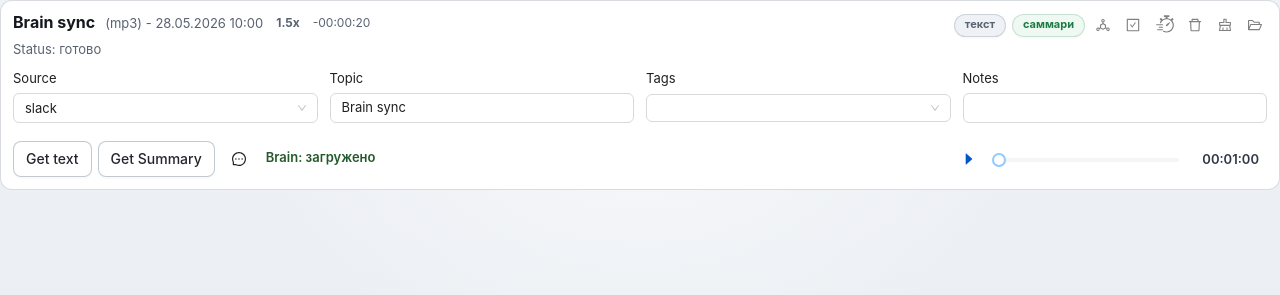
Scenario: SessionCard speed dropdown › does not mark 1x as available when speed availability metadata is missing
This screenshot has width=1280, height=295.
Step 1. Click the button named "Выбрать скорость транскрибации" → {"x": 1165, "y": 25}, box [1153, 13, 1177, 37]
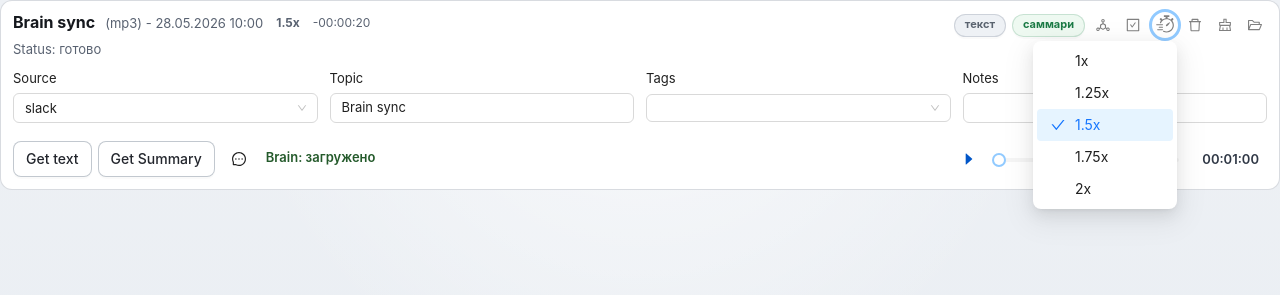
Expected: the menu item "1x" is shown, [1075, 52, 1088, 69]
